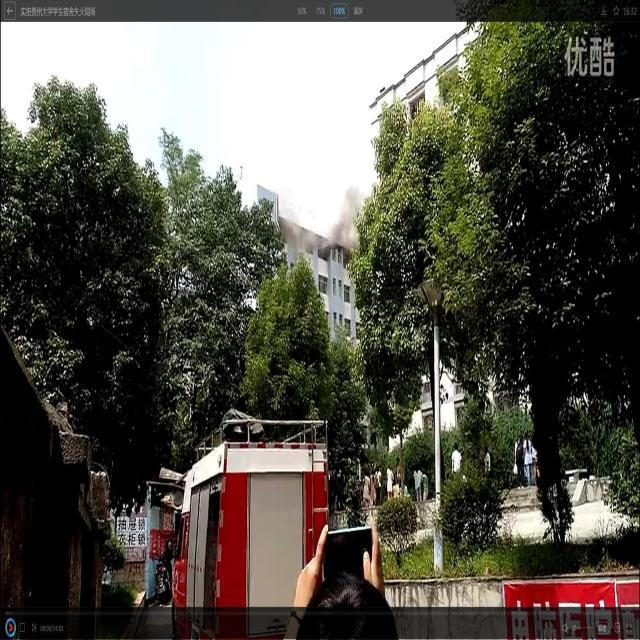Smoke: (282, 216, 358, 260), (344, 185, 366, 213)
